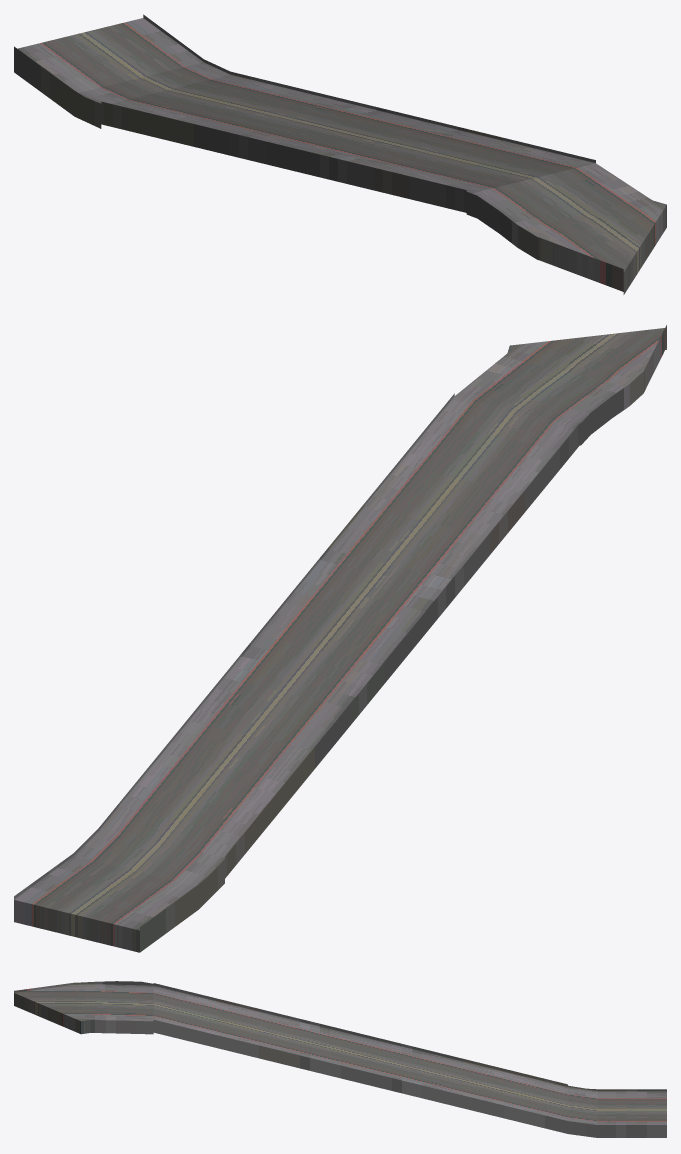
File: lodroads_sfw06.obj
3 renders of one model, top to bottom at view 1: azimuth 30°, elevation 25°; view 2: azimuth 150°, elevation 25°; view 3: azimuth 270°, elevation 25°, orthographic. The views are drawn at different scales.
Parts seen in each view (by area): view 1: LODroads_sfw06; view 2: LODroads_sfw06; view 3: LODroads_sfw06.
Part boxes in pixels (box(x1,y1,x2,y2)): LODroads_sfw06: box(14, 14, 666, 294); LODroads_sfw06: box(14, 325, 666, 952); LODroads_sfw06: box(14, 981, 666, 1137).
Bounding box in the file's own units: 21.12 × 32.04 × 154.
Materials: 1 (1 with a texture image).
